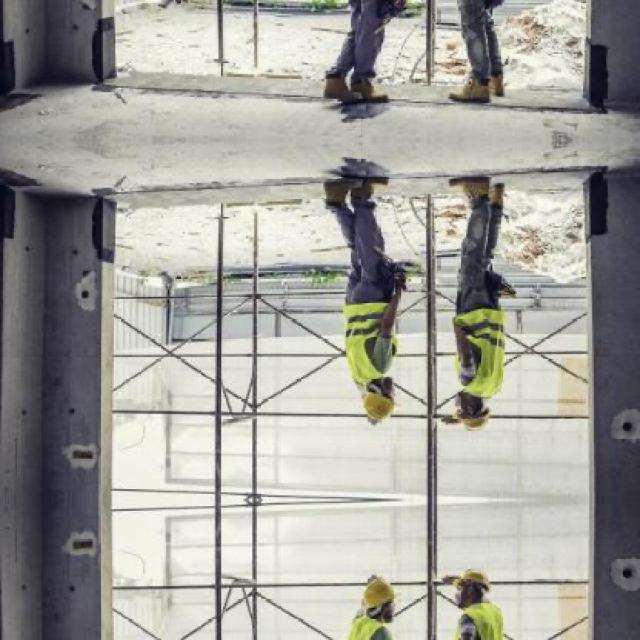con casco: (353, 372, 401, 440), (445, 576, 498, 626), (468, 396, 518, 432), (360, 578, 396, 604)
